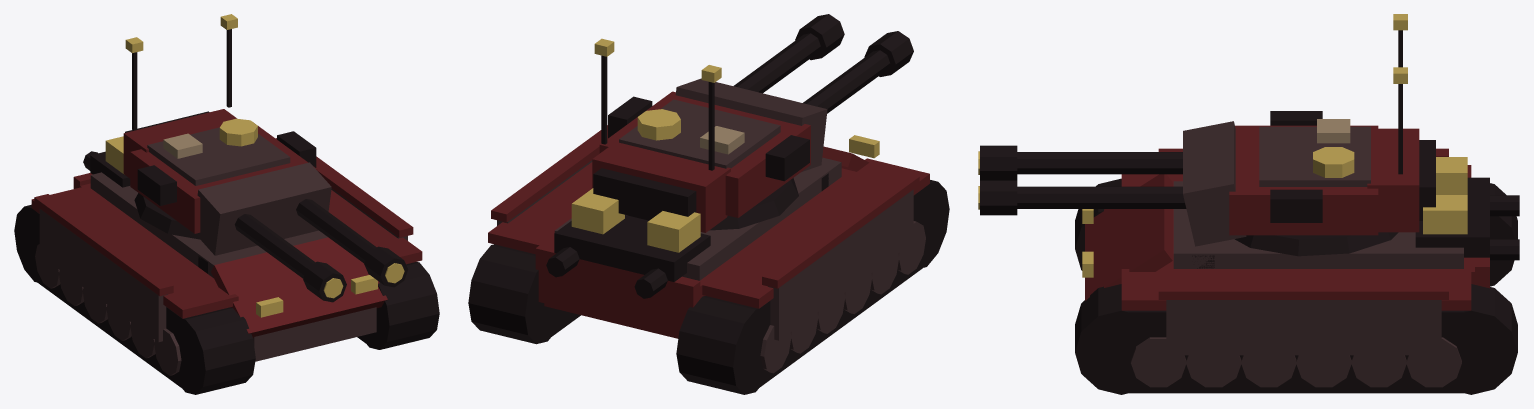
The model's file is enemy_boss.glb.
The picture shows the model from 3 angles, left to right: view 1: azimuth 30°, elevation 25°; view 2: azimuth 150°, elevation 25°; view 3: azimuth 270°, elevation 25°; orthographic projection. The views are drawn at different scales.
Parts seen in each view (by area): view 1: hull, turret; view 2: hull, turret; view 3: hull, turret.
Part boxes in pixels (x1,y1,x2,y2): hull: (14,136,439,394); turret: (123,14,408,302); hull: (468,125,949,394); turret: (592,14,913,232); hull: (1075,148,1519,394); turret: (978,14,1435,256).
Size of the model in its own units: 0.91 by 0.845 by 1.45.
